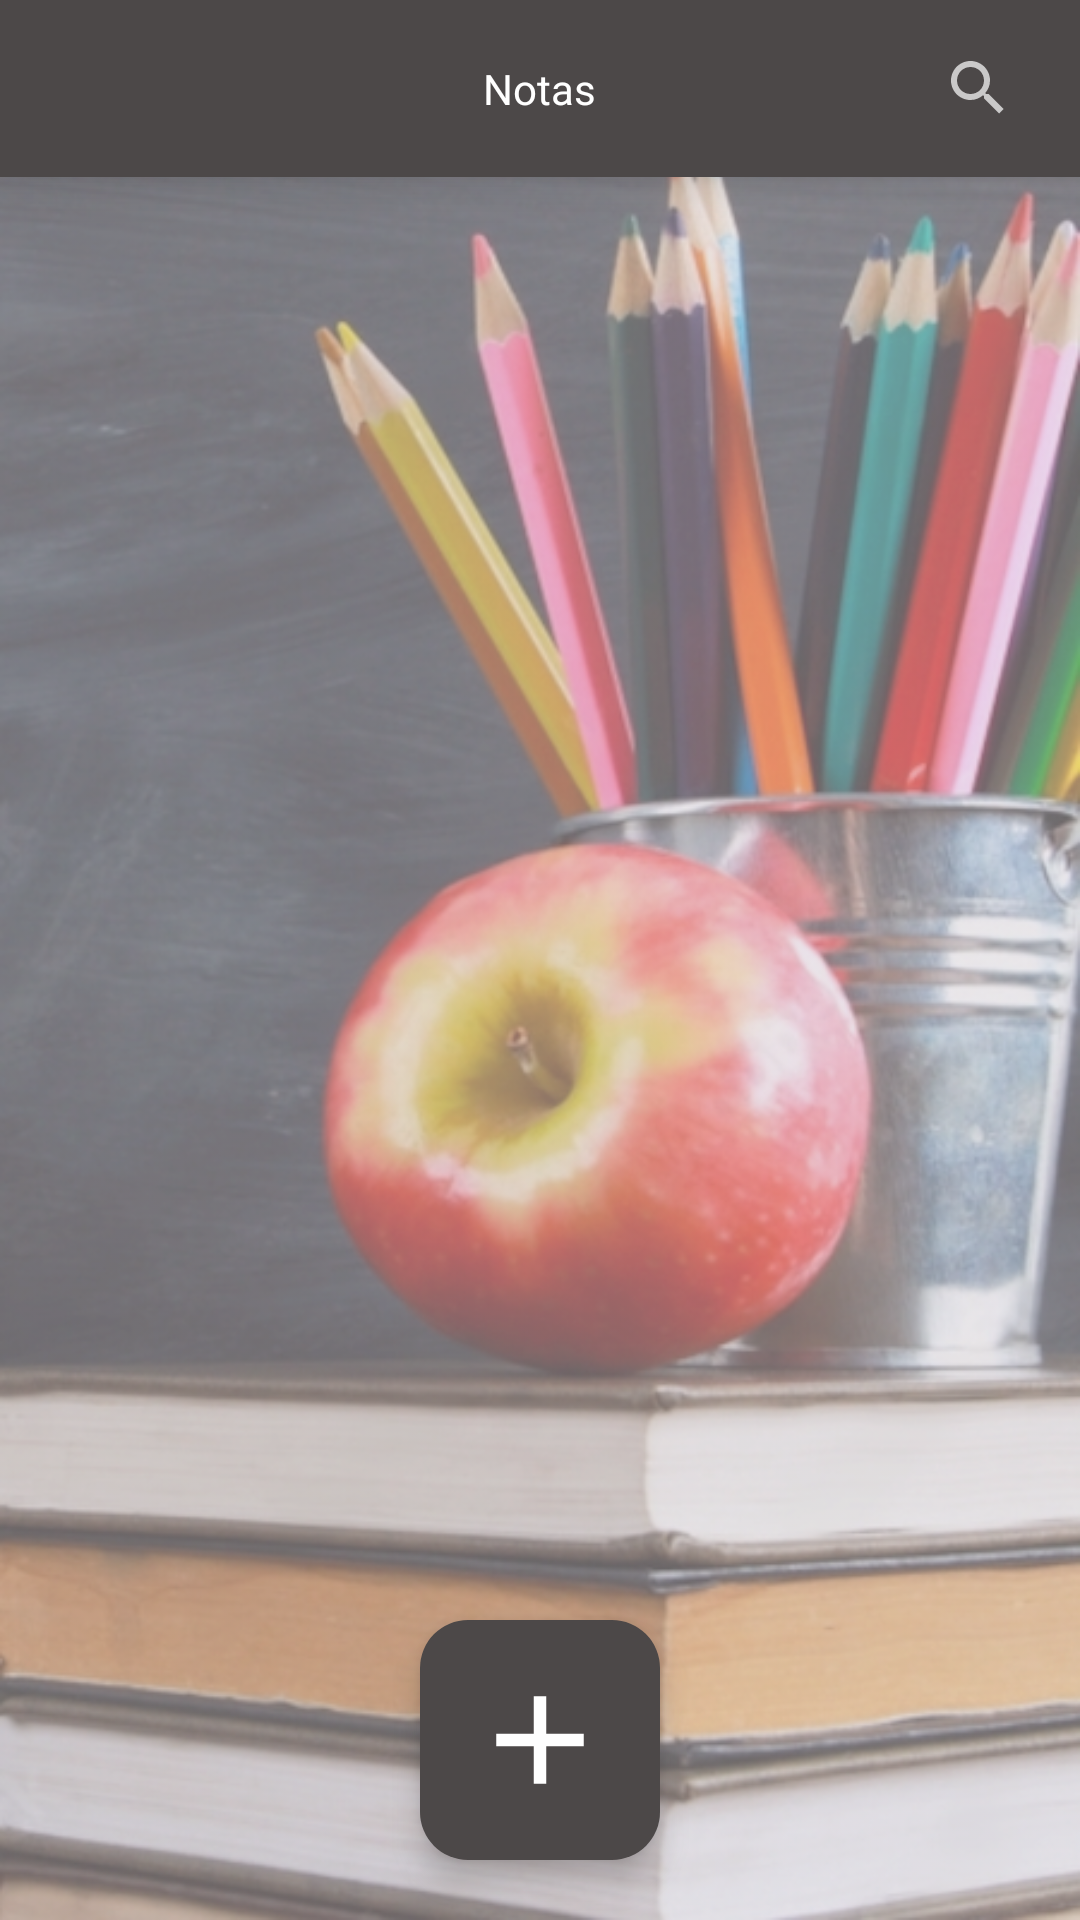

Named icons in this screenshot (1080px x 1920px) and their centers, (x=x, y=y):
notes add: (x=540, y=1740)
